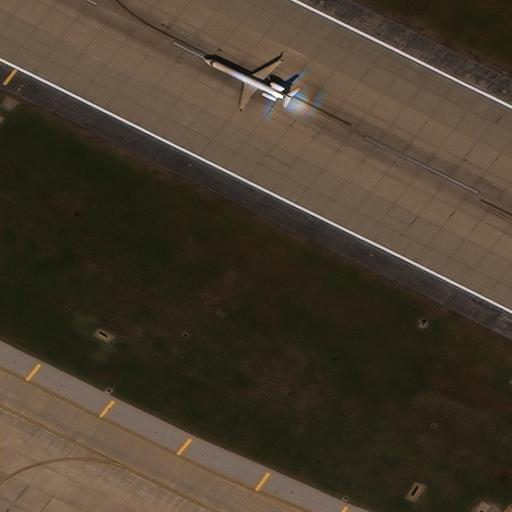Medium Civil Transport: (205, 61, 292, 107)
